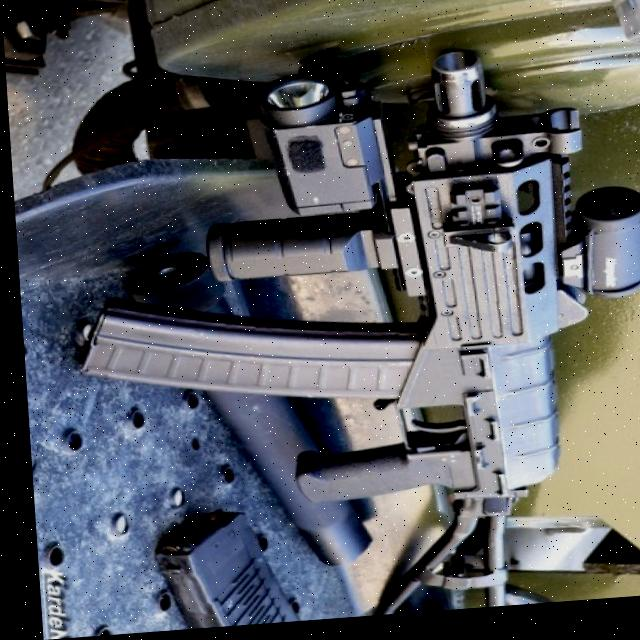firearm: (51, 46, 640, 637)
